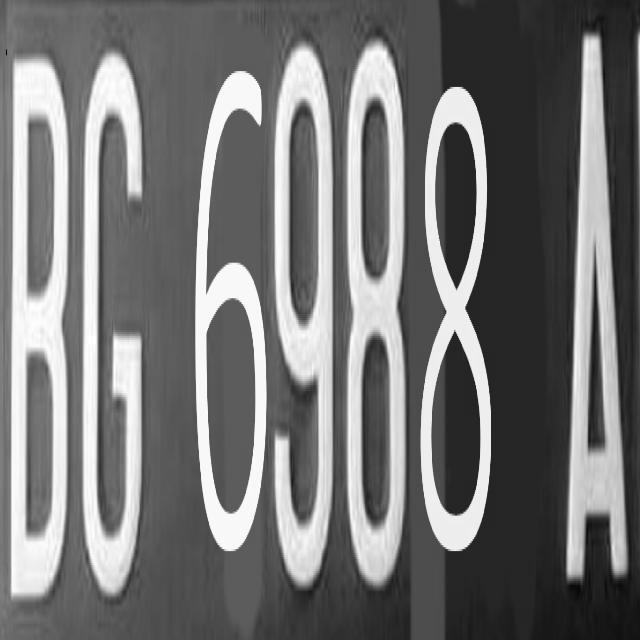6: (190, 55, 260, 588)
8: (413, 68, 499, 571), (351, 28, 406, 584)
9: (263, 26, 339, 600)
A: (556, 16, 636, 592)
B: (8, 55, 75, 628)
G: (75, 44, 162, 620)
